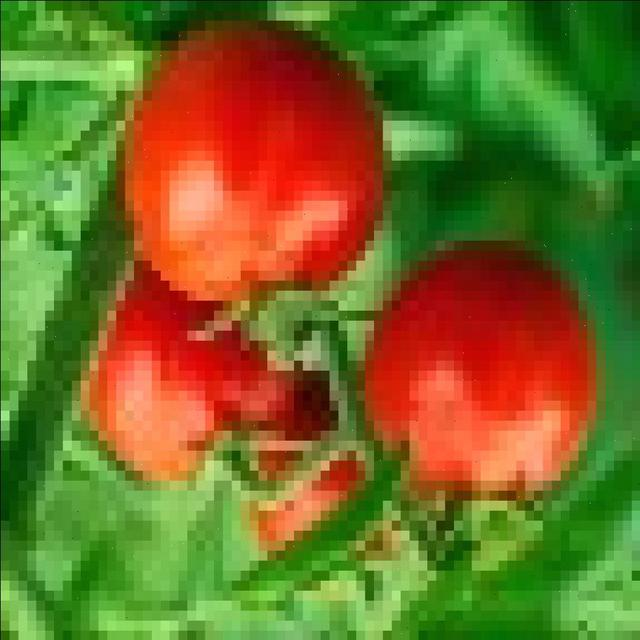Healthy Fruit: (125, 114, 306, 266)
